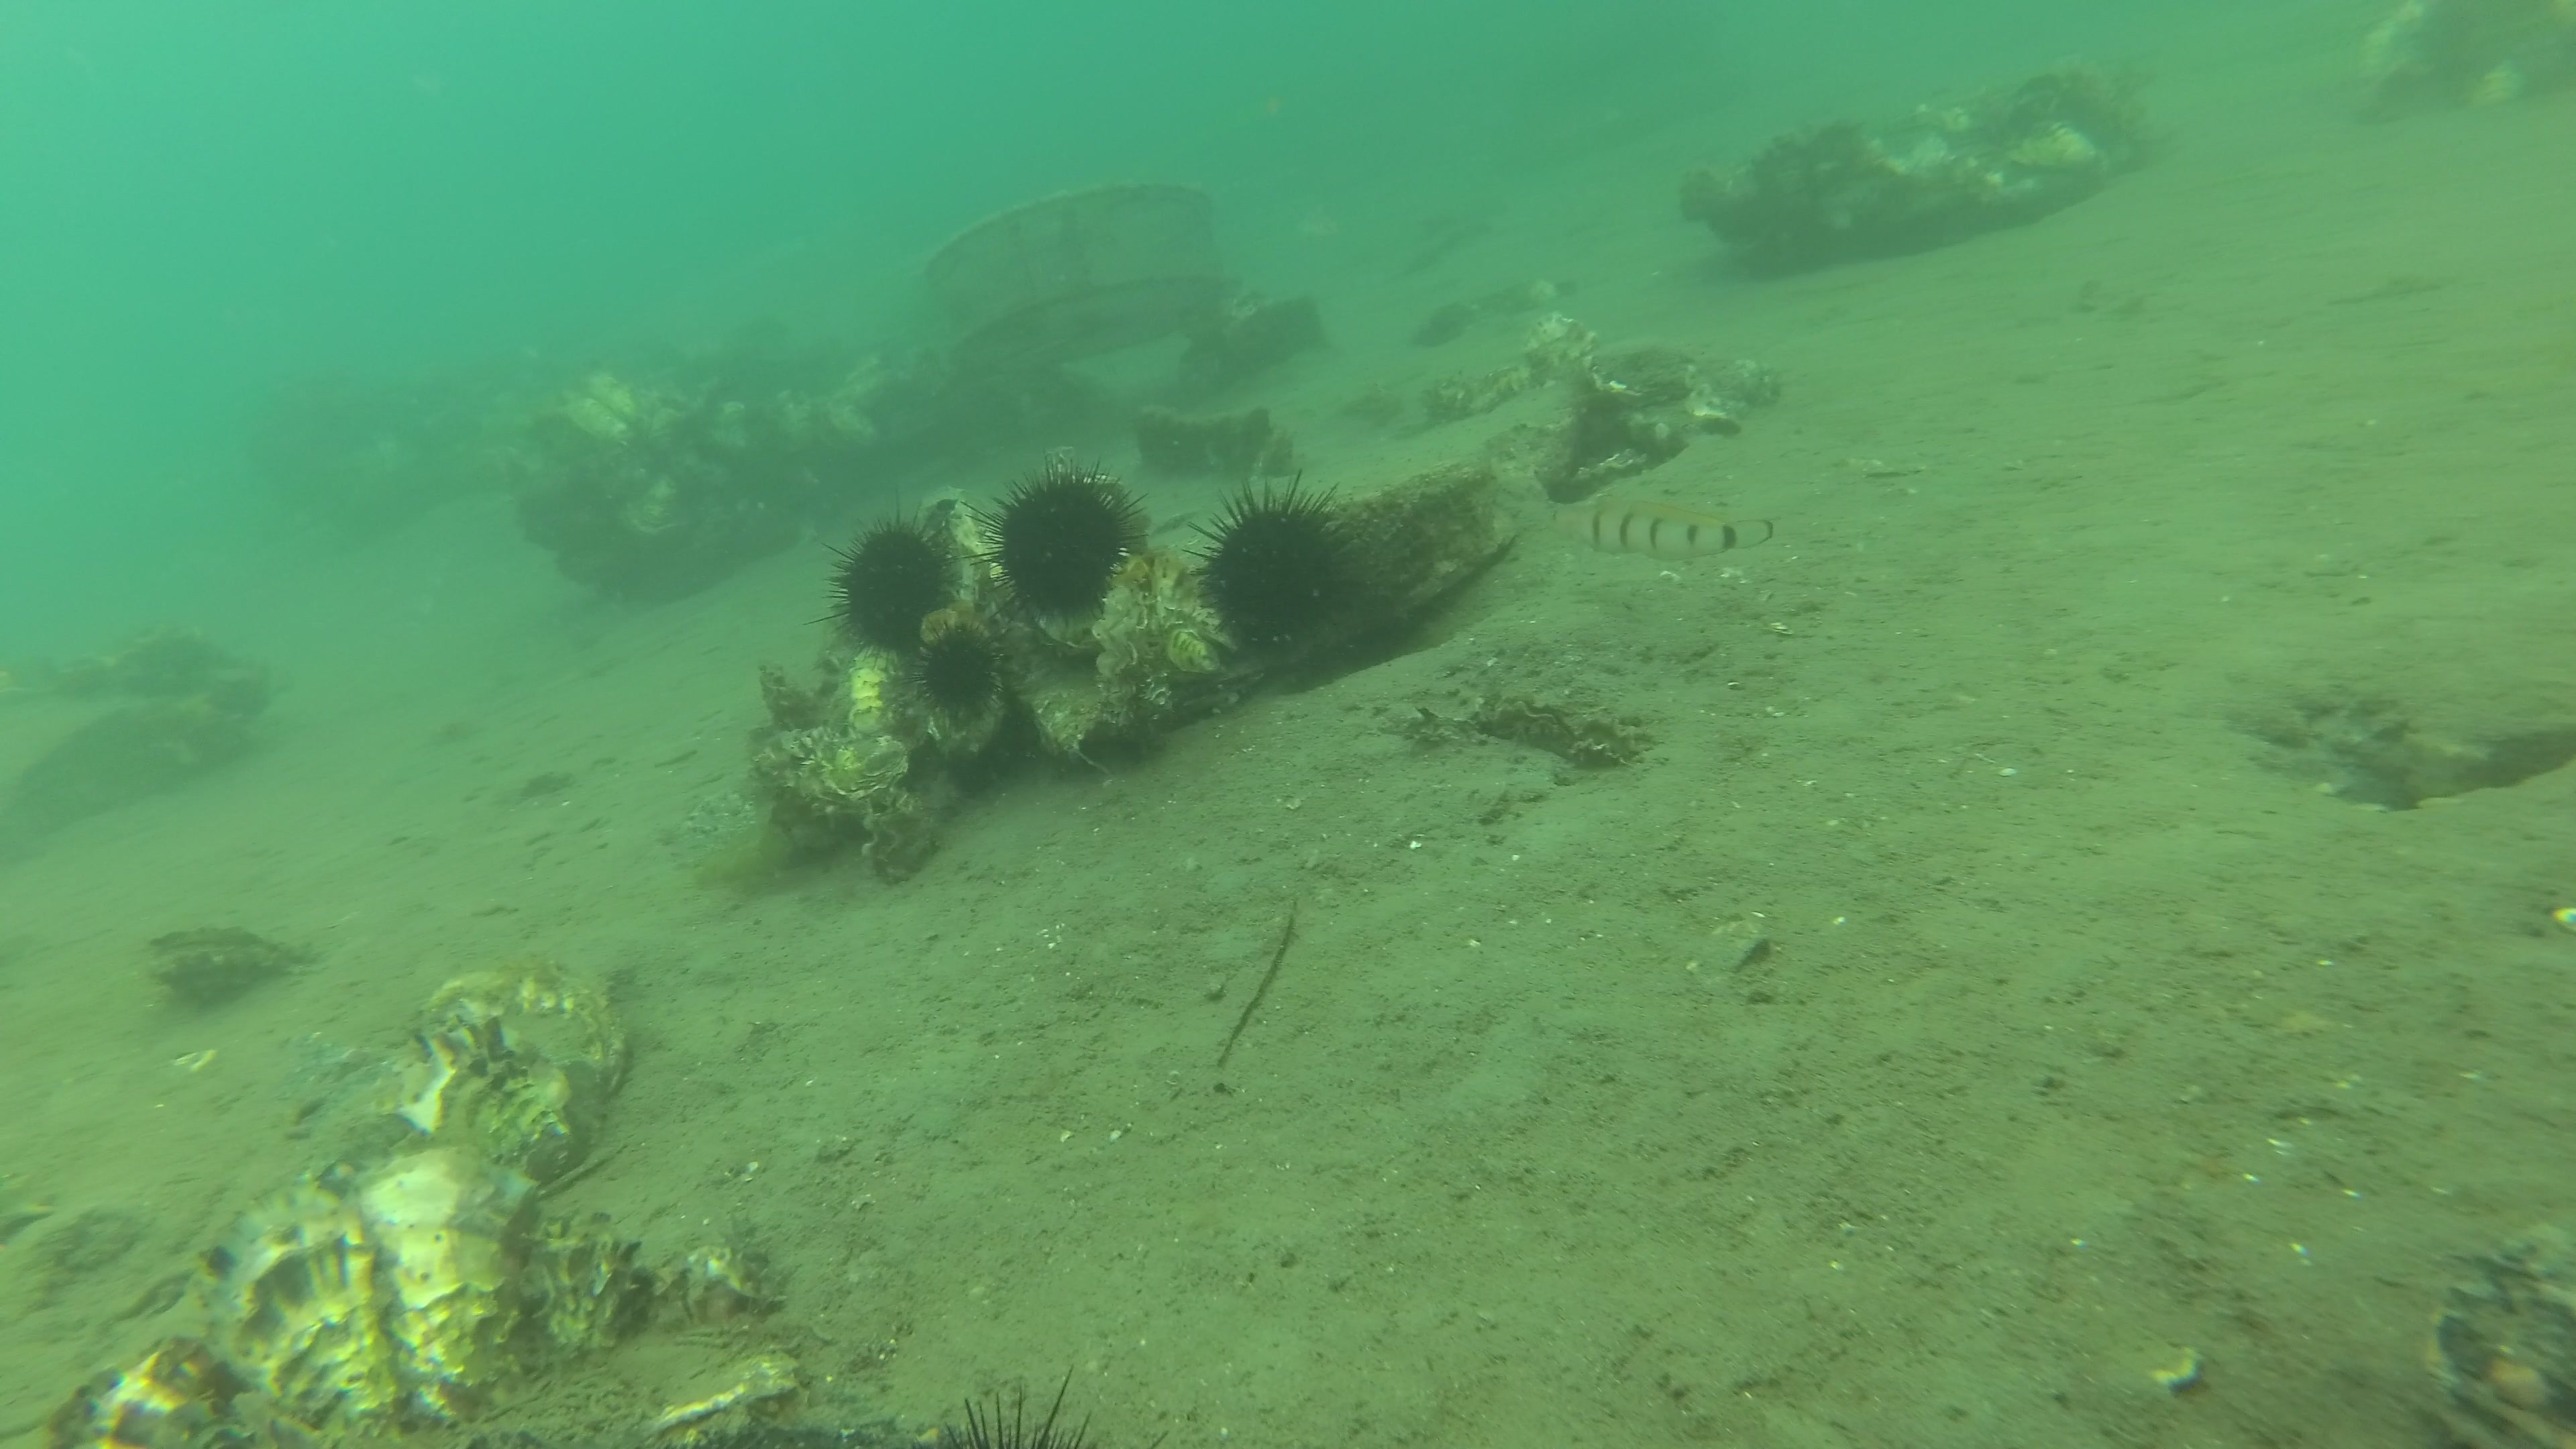echinus: (1178, 464, 1371, 660), (961, 449, 1154, 633), (803, 488, 959, 674), (924, 1361, 1175, 1449), (899, 614, 1017, 724)
